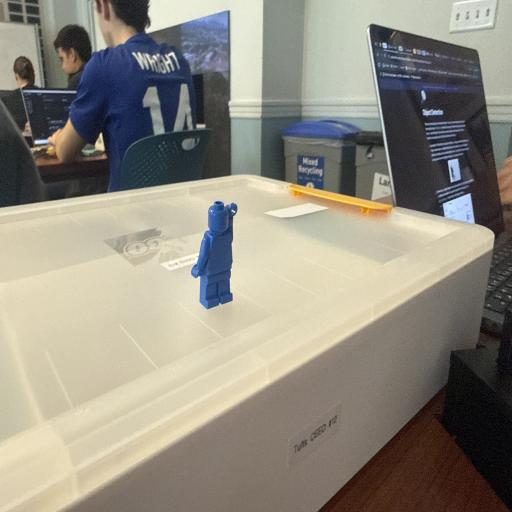Minifig: (191, 201, 237, 308)
